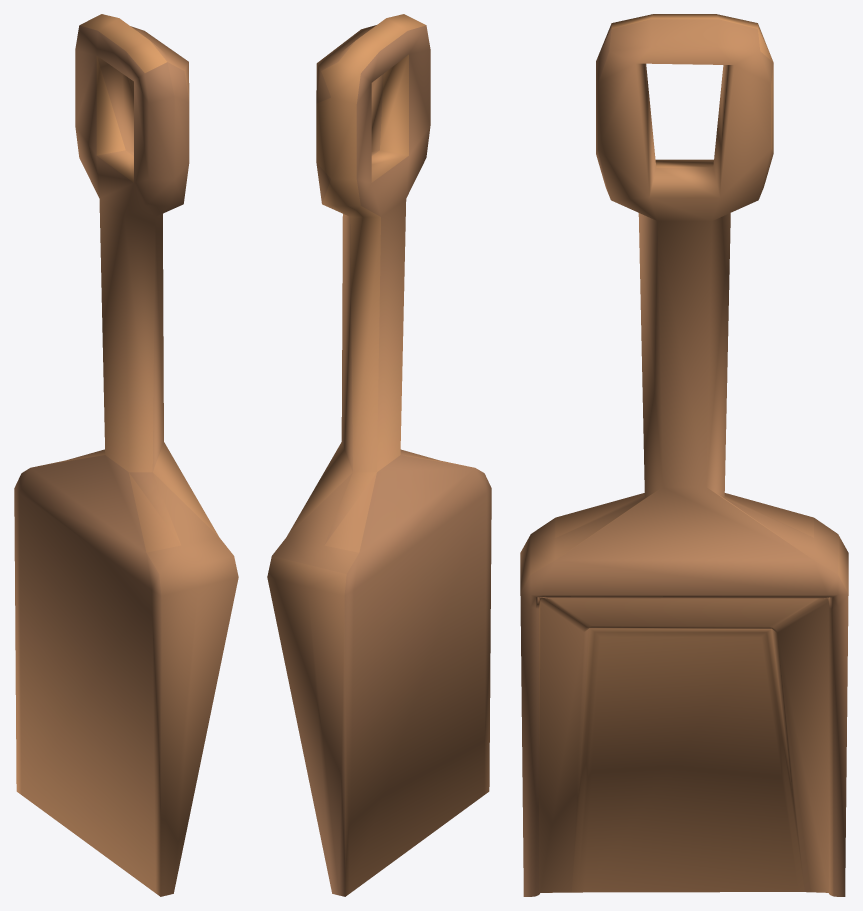
The model's file is shovel3.fbx.
3 renders of one model, left to right at view 1: azimuth 30°, elevation 25°; view 2: azimuth 150°, elevation 25°; view 3: azimuth 270°, elevation 25°, orthographic. The views are drawn at different scales.
Visible parts, largest first — view 1: shovel3; view 2: shovel3; view 3: shovel3.
Part boxes in pixels (x1,y1,x2,y2): shovel3: (14, 14, 238, 896); shovel3: (267, 14, 491, 896); shovel3: (520, 14, 848, 896).
Size of the model in its own units: 0.1684 by 1.59 by 0.5286.
